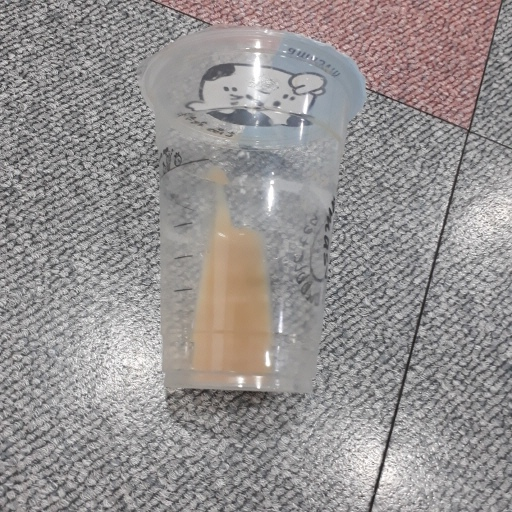Plastic_2: (136, 26, 367, 410)
